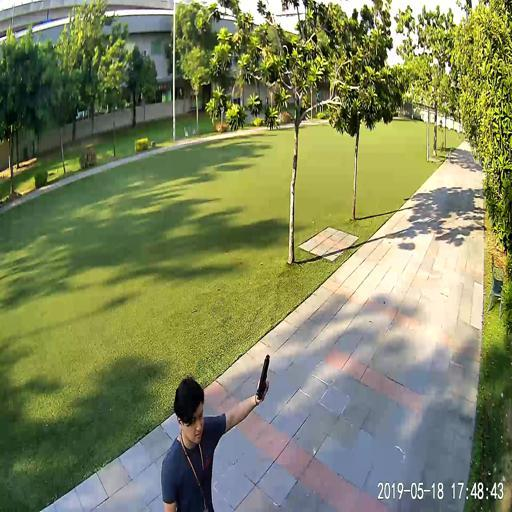Handgun: (255, 353, 269, 397)
